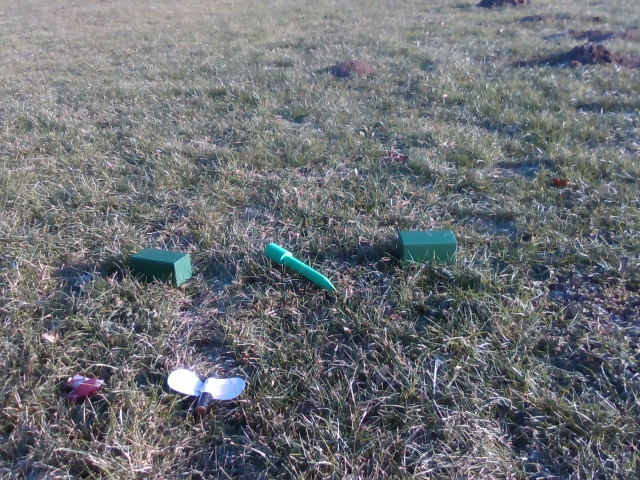Probe: (258, 238, 346, 292)
